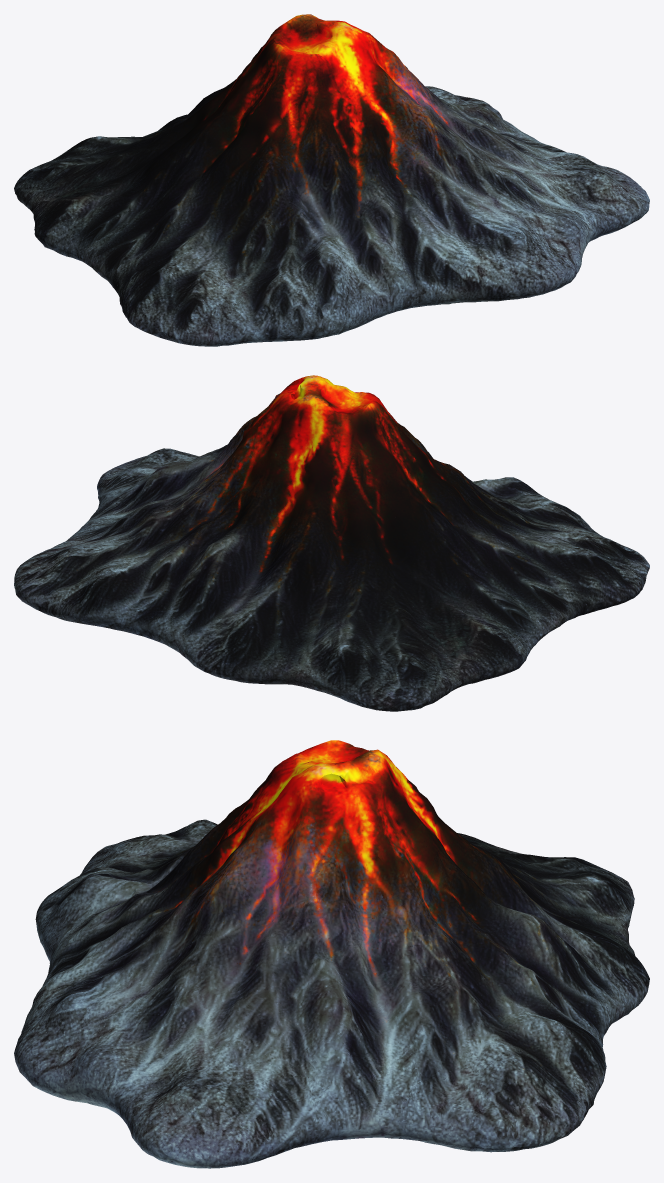
Rendered from volcano.fbx.
The picture shows the model from 3 angles, top to bottom: view 1: azimuth 30°, elevation 25°; view 2: azimuth 150°, elevation 25°; view 3: azimuth 270°, elevation 25°; orthographic projection. The views are drawn at different scales.
Visible parts, largest first — view 1: Mesh; view 2: Mesh; view 3: Mesh.
Boxes of the visible parts, x1,y1,x2,y2 form: Mesh: [14, 14, 649, 346]; Mesh: [14, 375, 649, 711]; Mesh: [14, 740, 649, 1168].
Bounding box in the file's own units: 4408 × 1693 × 3706.
1 material, 1 textured.
